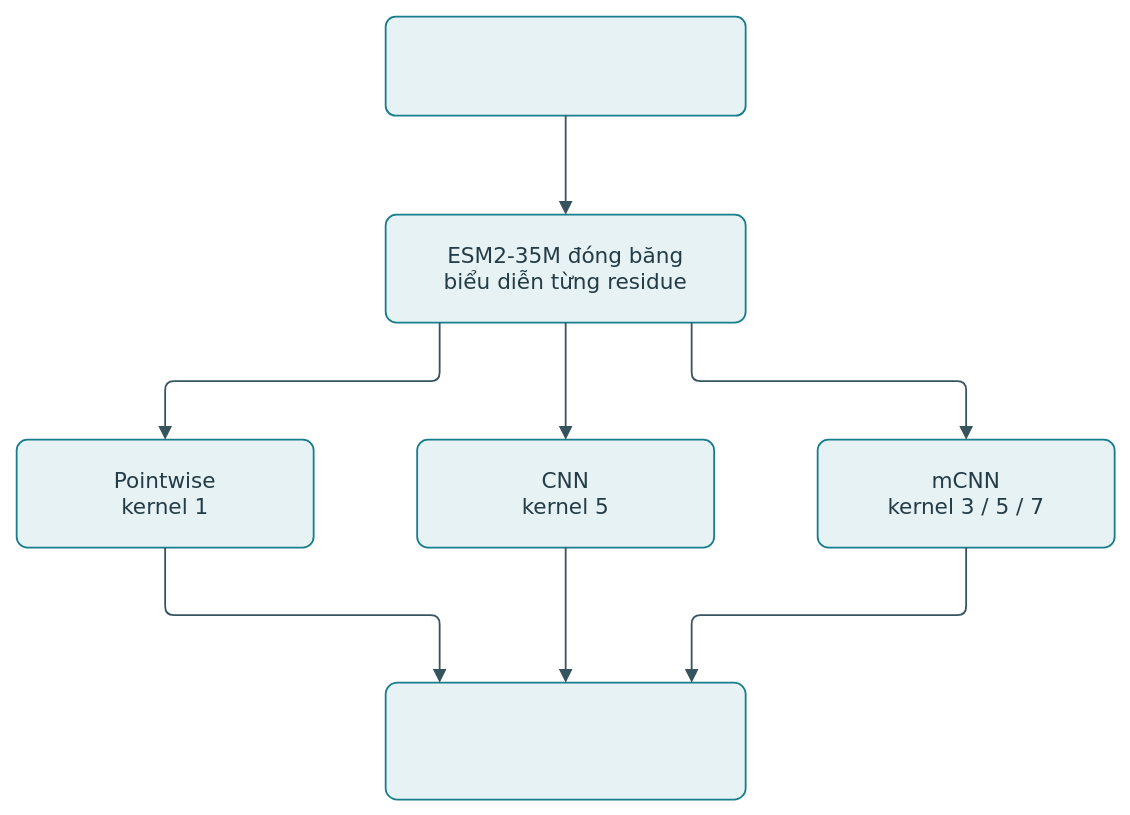
Image size: 1130x815. Some labels were removed from this diagram. The centre of each missing label's shape, as x and y in pixels:
"WT và mutant cùng mutation key" goes at [565,65].
"Đầu hồi quy → ΔPSI Cùng cohort, fold, seed" goes at [565,740].
